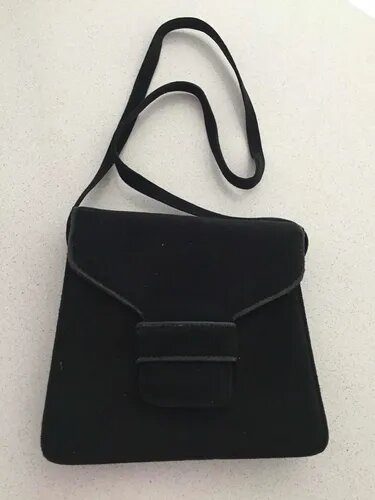cartera: (36, 4, 343, 471)
gamuza: (35, 202, 334, 462)
